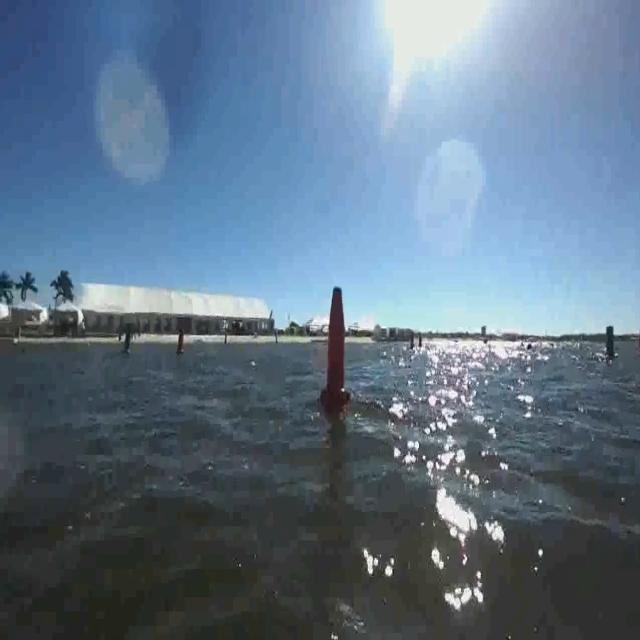green-column-buoy: (603, 324, 616, 361), (122, 325, 136, 359)
red-column-buoy: (323, 283, 352, 409), (176, 329, 186, 356)
